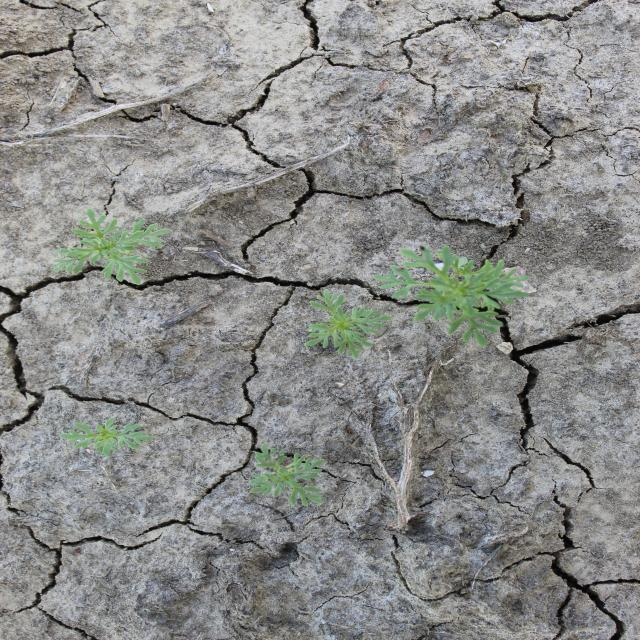Ragweed: (370, 243, 532, 348), (50, 208, 174, 286), (302, 288, 394, 360), (246, 442, 329, 508), (56, 416, 156, 458)
